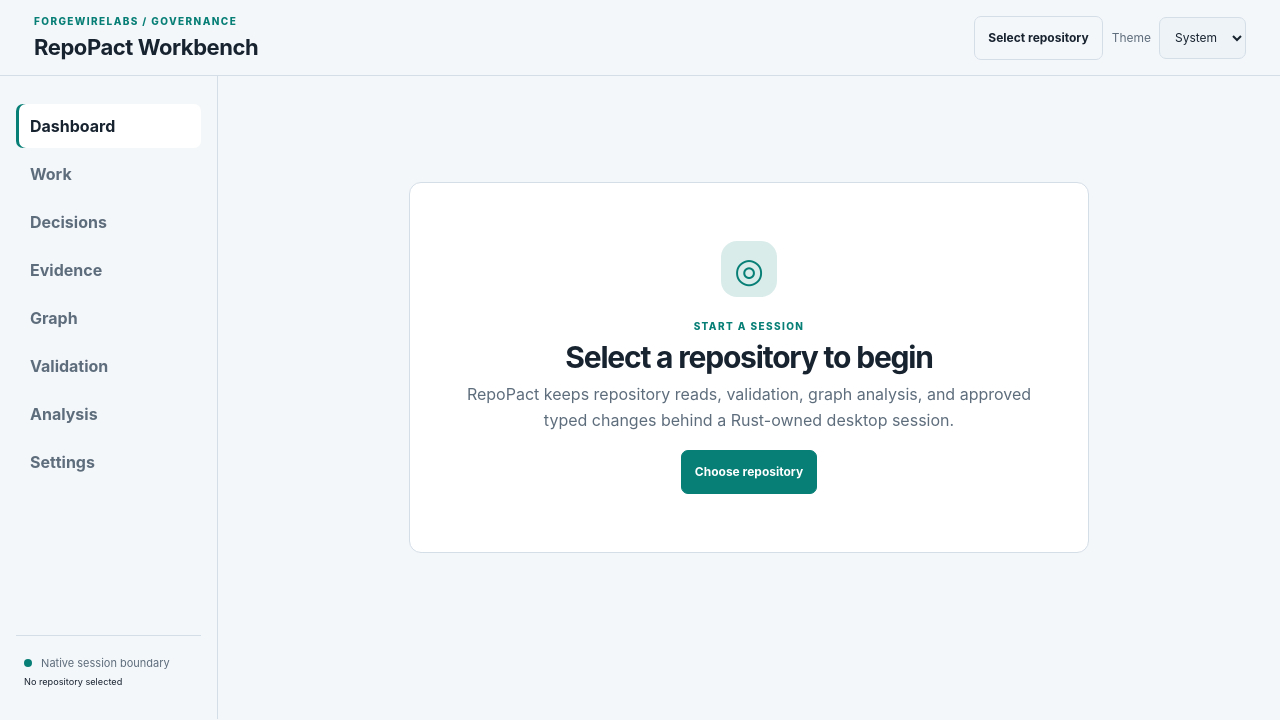
adaptive workbench information architecture › exposes exact lifecycle tabs and keeps blocked work inside Active
Click the button "Choose repository" at [749, 472], box [681, 450, 817, 494]
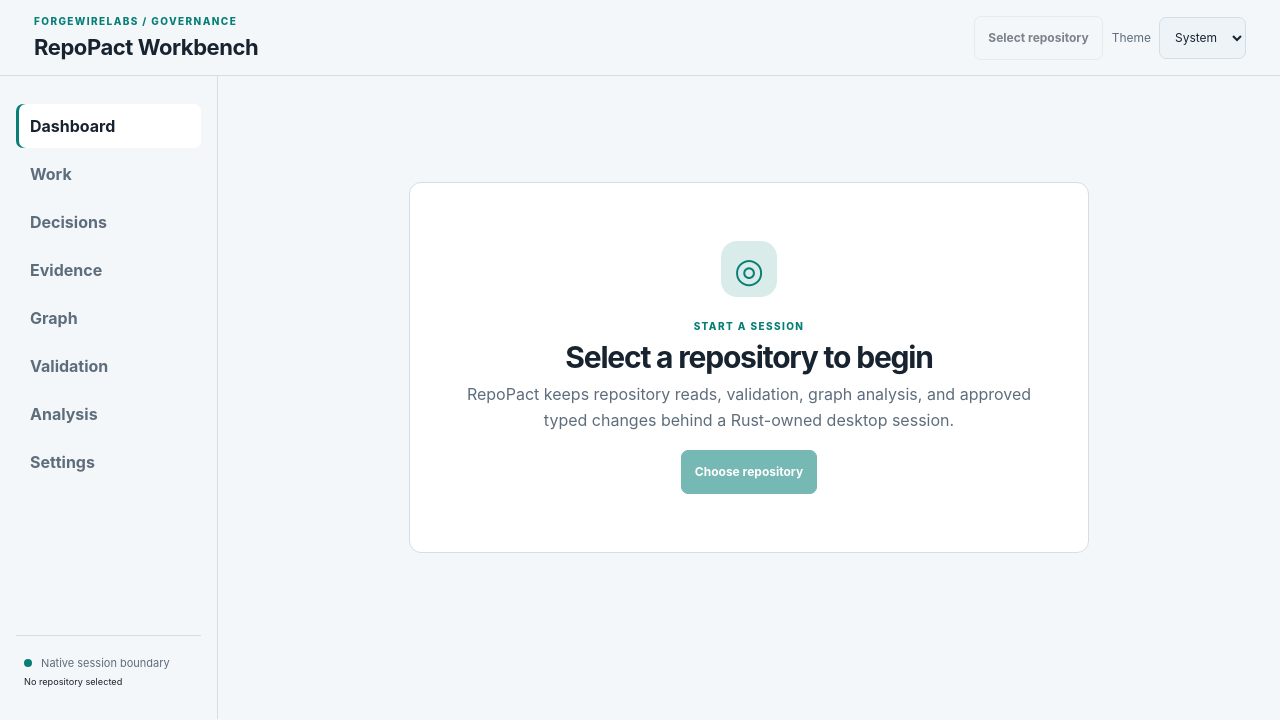
Click the button "Work" at [108, 174], box [16, 152, 201, 196]
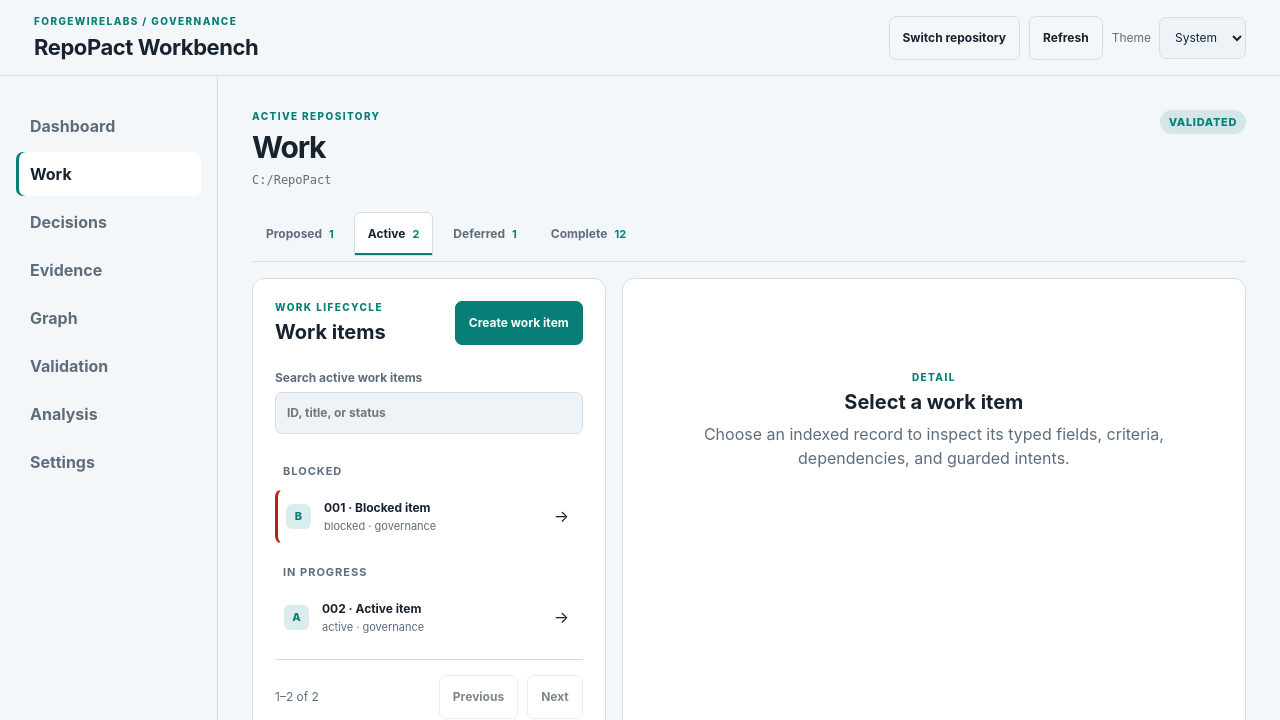
Check: the heading "Work items" is shown, box [275, 320, 386, 344]
Check: the heading "Blocked" is shown, box [283, 464, 342, 478]
Check: the text "blocked · governance" is shown, box [324, 519, 436, 533]
